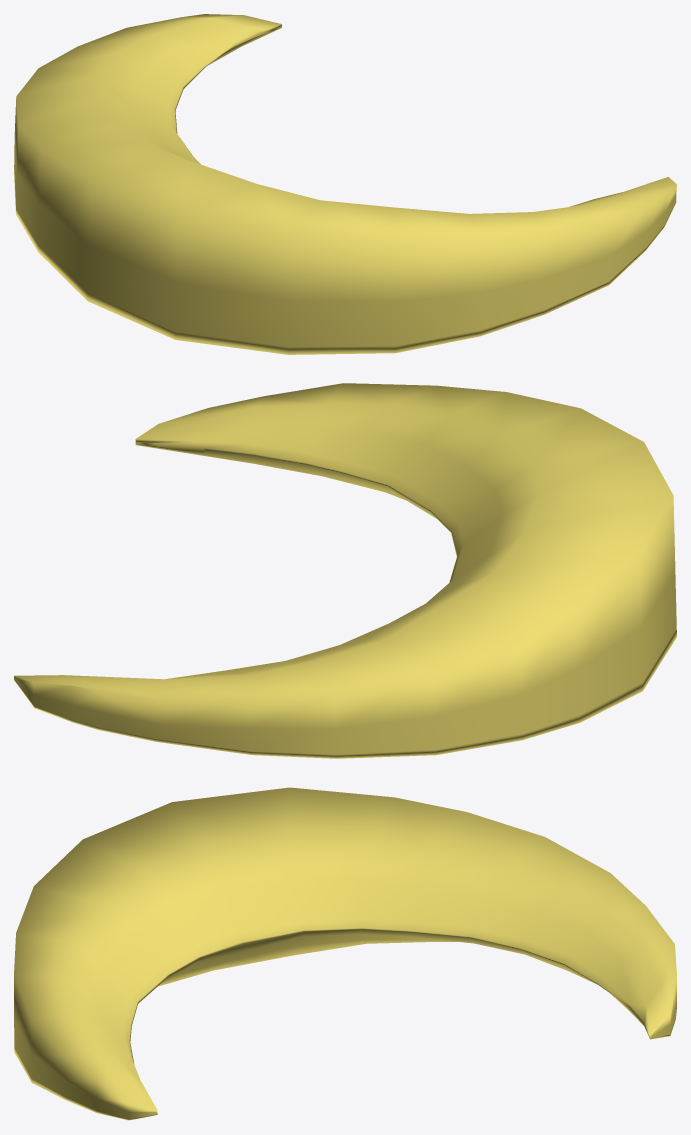
The model's file is Moon.fbx.
The picture shows the model from 3 angles, top to bottom: view 1: azimuth 30°, elevation 25°; view 2: azimuth 150°, elevation 25°; view 3: azimuth 270°, elevation 25°; orthographic projection. The views are drawn at different scales.
Visible parts, largest first — view 1: bevelPolygon1; view 2: bevelPolygon1; view 3: bevelPolygon1.
Part boxes in pixels (box(x1,y1,x2,y2)): bevelPolygon1: box(14, 14, 676, 354); bevelPolygon1: box(14, 383, 676, 758); bevelPolygon1: box(14, 787, 676, 1120).
Size of the model in its own units: 7.07 by 1.66 by 7.91.
